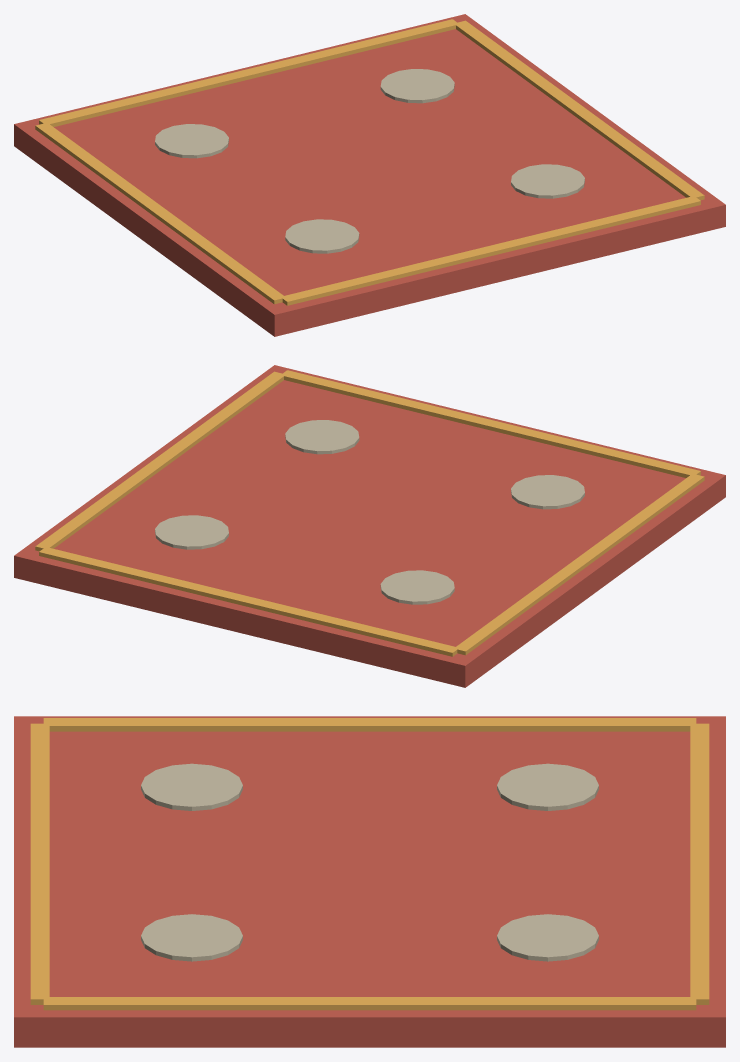
The model's file is space_die_coral_face_4.glb.
The picture shows the model from 3 angles, top to bottom: view 1: azimuth 30°, elevation 25°; view 2: azimuth 150°, elevation 25°; view 3: azimuth 270°, elevation 25°; orthographic projection. The views are drawn at different scales.
Parts seen in each view (by area): view 1: FixedDetails, BrassTrim; view 2: FixedDetails, BrassTrim; view 3: FixedDetails, BrassTrim.
Part boxes in pixels (left/top/right/bottom): FixedDetails: left=14, top=14, right=725, bottom=336; BrassTrim: left=35, top=19, right=704, bottom=305; FixedDetails: left=14, top=365, right=725, bottom=687; BrassTrim: left=35, top=370, right=704, bottom=656; FixedDetails: left=14, top=716, right=725, bottom=1047; BrassTrim: left=30, top=718, right=709, bottom=1010.
Bounding box in the file's own units: 0.6 × 0.034 × 0.6.
